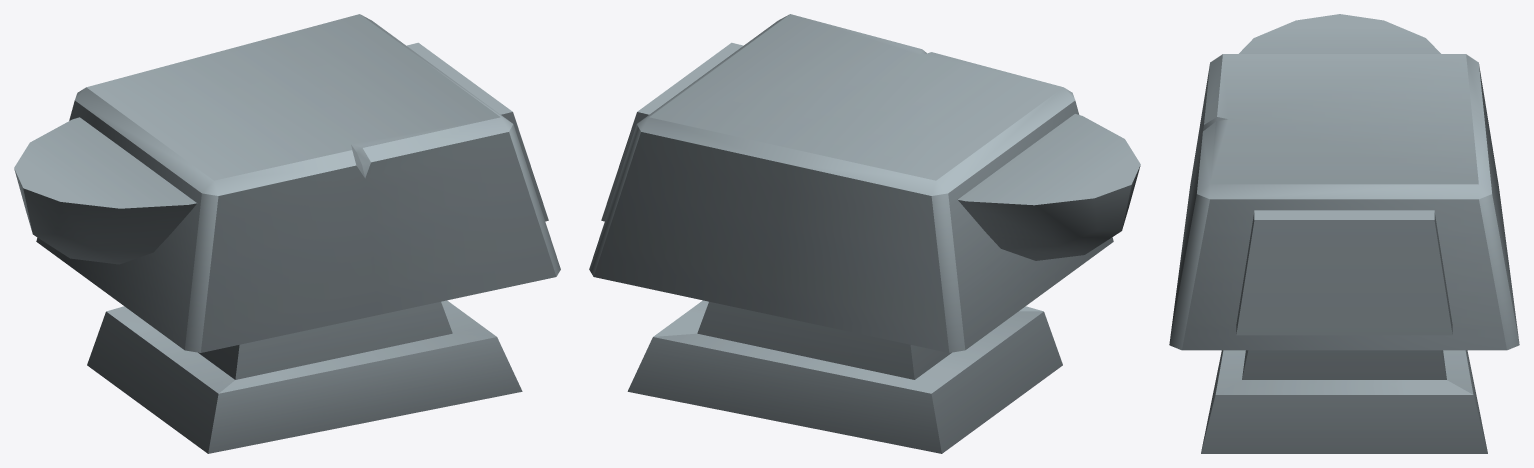
Rendered from anvil.fbx.
The picture shows the model from 3 angles, left to right: view 1: azimuth 30°, elevation 25°; view 2: azimuth 150°, elevation 25°; view 3: azimuth 270°, elevation 25°; orthographic projection. The views are drawn at different scales.
Visible parts, largest first — view 1: anvil; view 2: anvil; view 3: anvil.
Part boxes in pixels (left/top/right/bottom): anvil: left=14, top=14, right=560, bottom=453; anvil: left=589, top=14, right=1140, bottom=453; anvil: left=1169, top=14, right=1519, bottom=453.
Bounding box in the file's own units: 1.78 × 0.9908 × 1.2.
